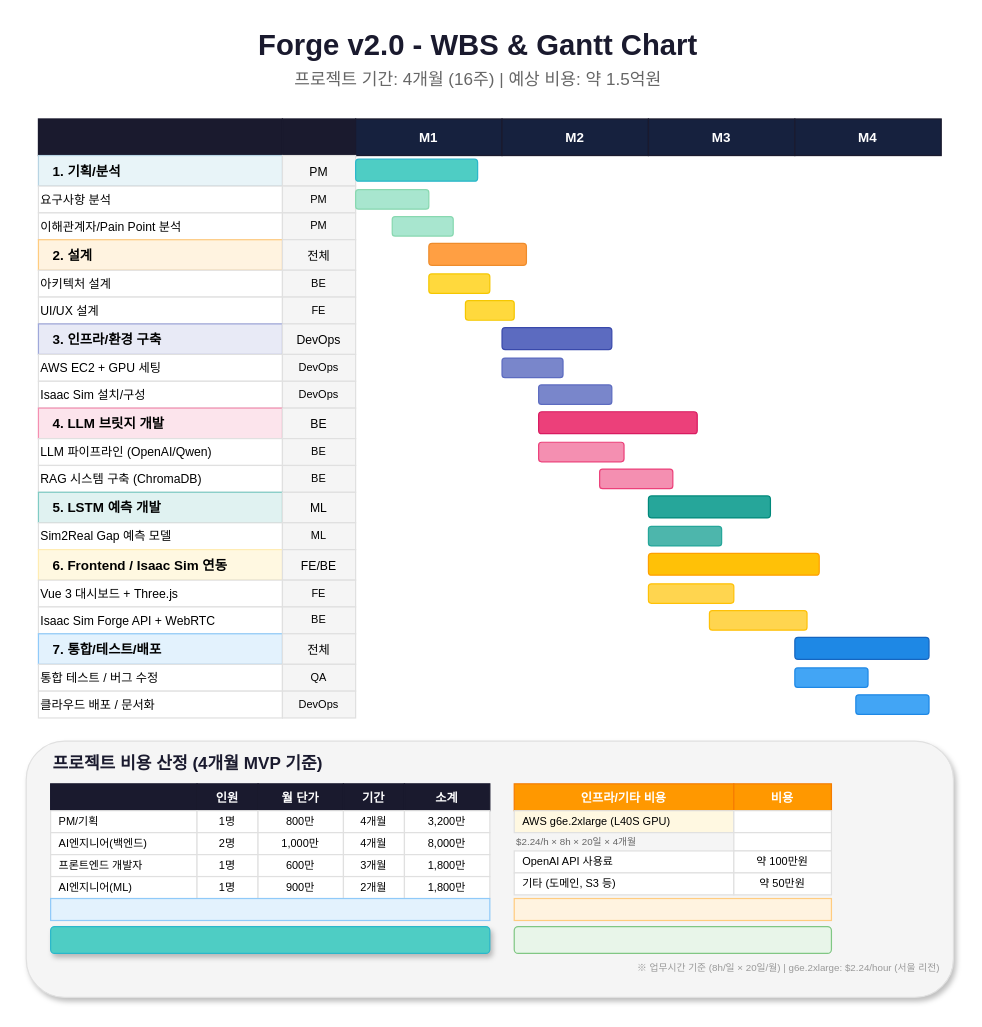
Some shapes in this 982 by 1027 pixel diagram are drawn without their labels. Here are the shapes that lost their labels. From the top down, the centre of each, then its label:
At pixel 159 137: "Task".
At pixel 318 137: "담당".
At pixel 123 797: "인력 비용".
At pixel 782 841: "약 200만원".
At pixel 269 908: "인력 소계: 14,800만원".
At pixel 672 908: "인프라 소계: 350만원".
At pixel 271 941: "총 예상 비용: 약 15,150만원 (≈ 1.5억)".
At pixel 672 939: "PoC 실제 사용 (이틀): $26 ≈ 3.5만원".
